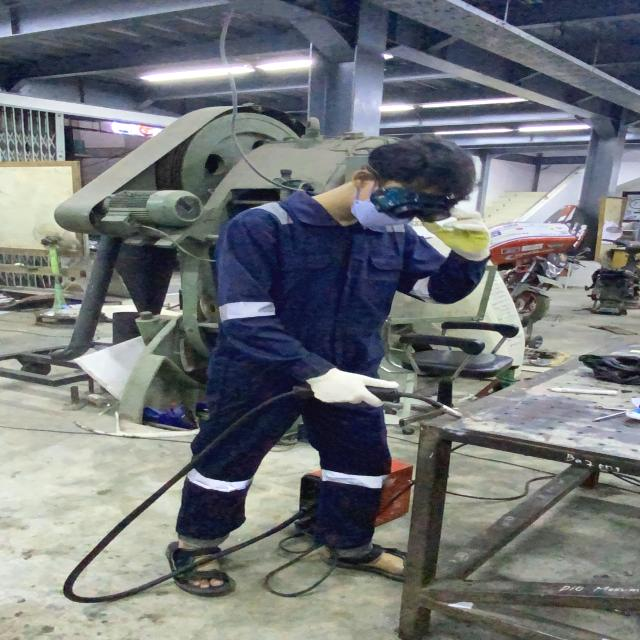face_mask: (352, 186, 453, 233)
glasses: (365, 181, 462, 225)
hand_glove: (299, 362, 395, 407), (420, 201, 497, 251)
head_nohelmet: (372, 132, 490, 195)
person: (184, 134, 491, 592)
